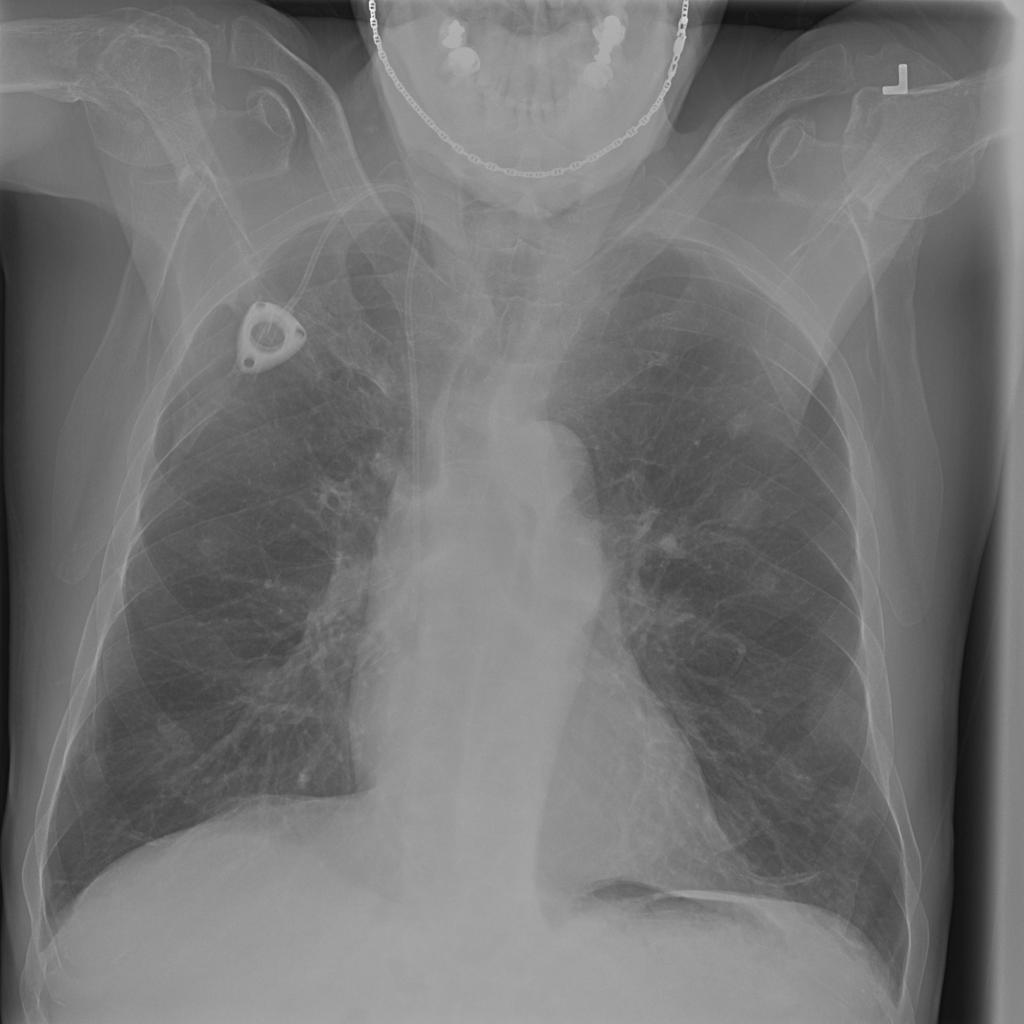nodule: (706, 476, 780, 542), (818, 768, 887, 838), (68, 735, 118, 788), (715, 399, 767, 447), (743, 556, 796, 603), (645, 516, 696, 564), (181, 521, 235, 566)
